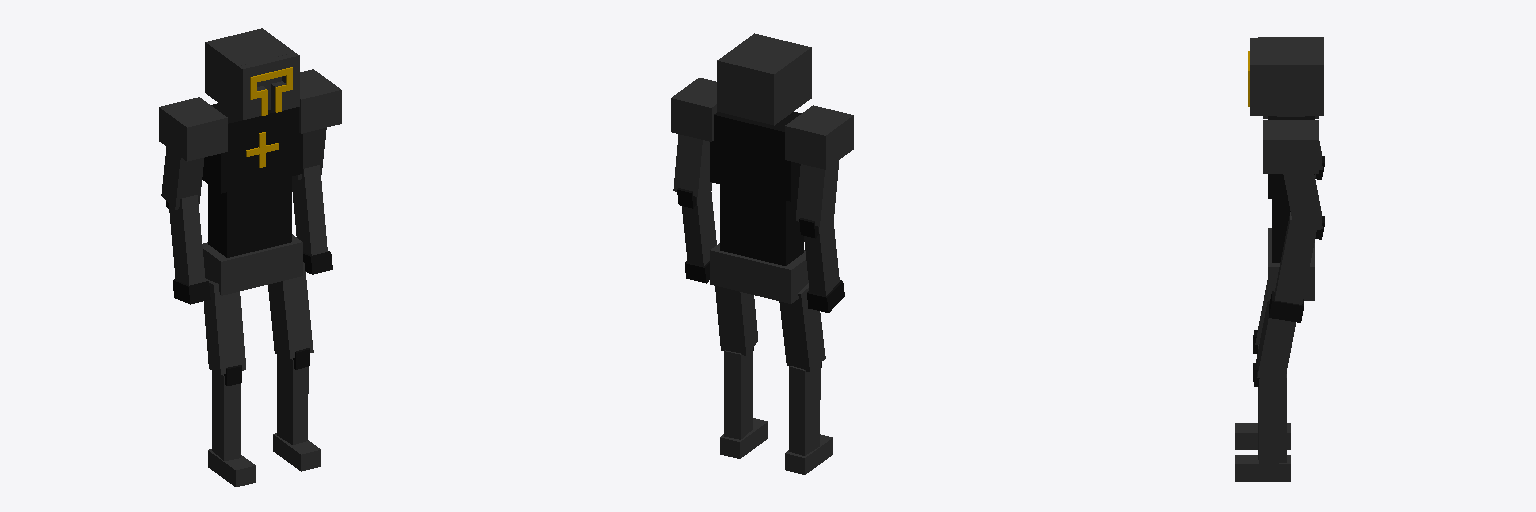
File: templar.obj
3 renders of one model, left to right at view 1: azimuth 30°, elevation 25°; view 2: azimuth 150°, elevation 25°; view 3: azimuth 270°, elevation 25°, orthographic.
Parts seen in each view (by area): view 1: Cube.008; view 2: Cube.008; view 3: Cube.008.
Part boxes in pixels (left/top/right/bottom): Cube.008: left=159, top=28, right=341, bottom=486; Cube.008: left=671, top=33, right=853, bottom=474; Cube.008: left=1235, top=37, right=1324, bottom=481.
Bounding box in the file's own units: 9.5 × 24 × 4.8.